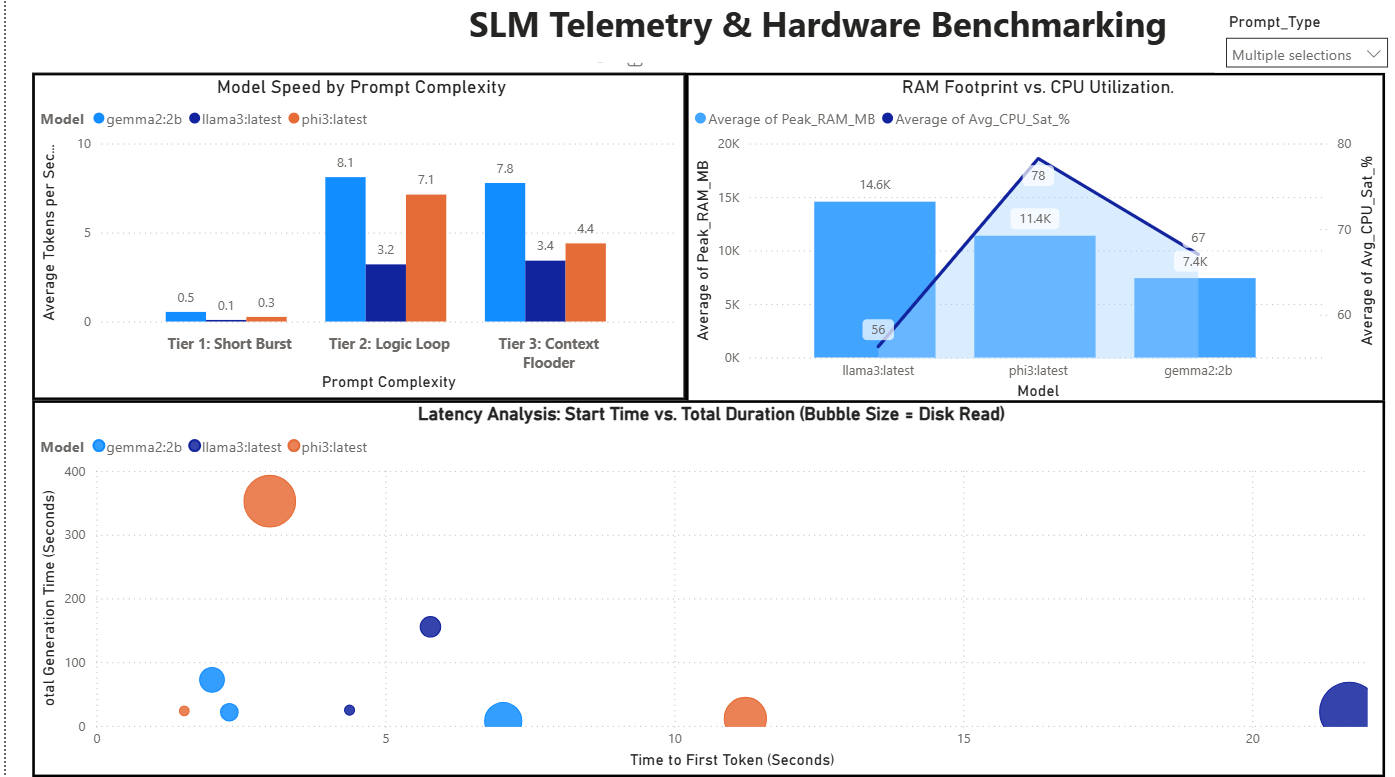

The dashboard page shown, as its layout file describes it:
{"tool":"powerbi","page":{"name":"Page 1","canvas":[1280,720],"ordinal":0},"visuals":[{"type":"clusteredColumnChart","title":"Model Speed by Prompt Complexity","fields":{"Category":["hardware_benchmark_results.Prompt_Type"],"Y":["Avg(hardware_benchmark_results.Tokens_Per_Sec)"],"Series":["hardware_benchmark_results.Model"]},"box":[24.1,72.4,600.8,301],"z":0},{"type":"lineClusteredColumnComboChart","title":"RAM Footprint vs. CPU Utilization.","fields":{"Category":["hardware_benchmark_results.Model"],"Y":["Avg(hardware_benchmark_results.Peak_RAM_MB)"],"Y2":["Avg(hardware_benchmark_results.Avg_CPU_Sat_%)"]},"box":[624.9,72.4,642.1,309],"z":1000},{"type":"scatterChart","title":"Latency Analysis: Start Time vs. Total Duration (Bubble Size = Disk Read)","fields":{"Series":["hardware_benchmark_results.Model"],"Category":["hardware_benchmark_results.Prompt_Type"],"X":["Avg(hardware_benchmark_results.TTFT_Sec)"],"Y":["Avg(hardware_benchmark_results.Duration_Sec)"],"Size":["Sum(hardware_benchmark_results.Disk_Read_MB)"]},"box":[24.4,373.3,1243,346.5],"z":2000},{"type":"textbox","box":[368.7,0,754.7,63.2],"z":3000},{"type":"slicer","fields":{"Values":["hardware_benchmark_results.Prompt_Type"]},"box":[1110.8,11.5,168.9,60.9],"z":4000}]}

Visuals, with their boxes in screenshot pixels (x1, y1, x2, y2), scaled from the page's 1280x720 canvas onto the 1395x777 screenshot:
"Model Speed by Prompt Complexity" clusteredColumnChart: 26/78/681/403
"RAM Footprint vs. CPU Utilization." lineClusteredColumnComboChart: 681/78/1381/412
"Latency Analysis: Start Time vs. Total Duration (Bubble Size = Disk Read)" scatterChart: 27/403/1381/776
textbox: 402/0/1224/68
slicer - hardware_benchmark_results.Prompt_Type: 1211/12/1394/78
